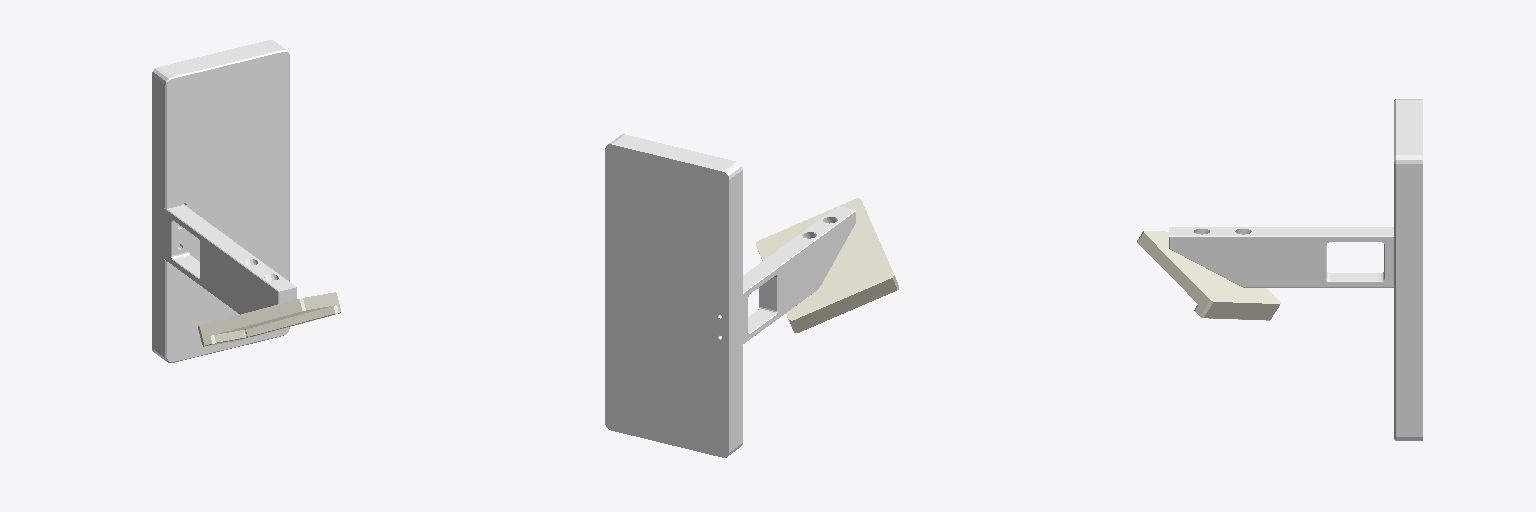
Rendered from AdjustmentArea_Model.obj.
3 views of the same model, side by side, from view 1: azimuth 30°, elevation 25°; view 2: azimuth 150°, elevation 25°; view 3: azimuth 270°, elevation 25° (orthographic).
Size of the model in its own units: 147 by 220 by 199.